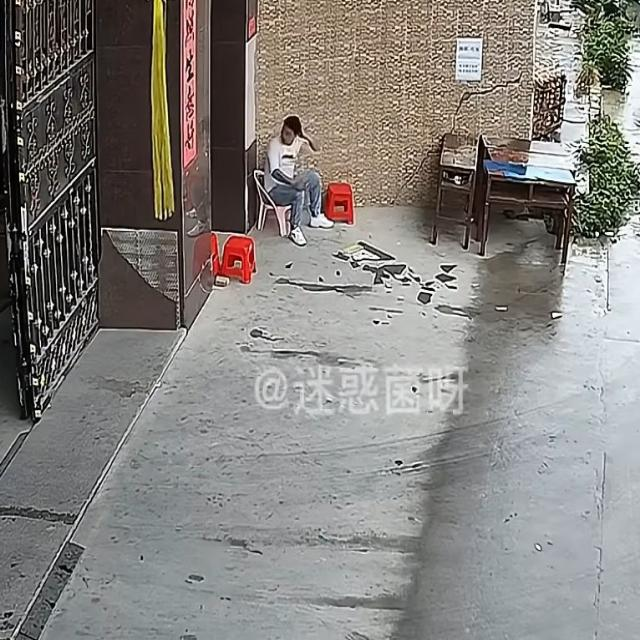sitting: (263, 116, 333, 245)
